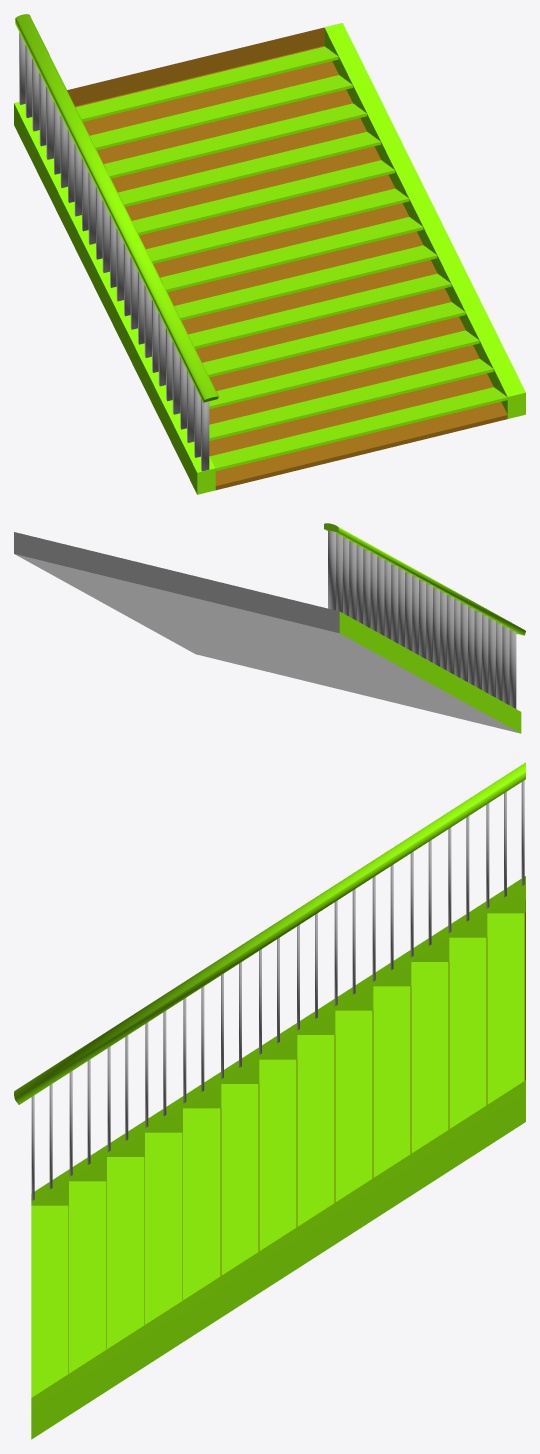
Rendered from obj_block.obj.
3 renders of one model, top to bottom at view 1: azimuth 30°, elevation 25°; view 2: azimuth 150°, elevation 25°; view 3: azimuth 270°, elevation 25°, orthographic. The views are drawn at different scales.
Visible parts, largest first — view 1: tizi_zhide; view 2: tizi_zhide; view 3: tizi_zhide.
Part boxes in pixels (left/top/right/bottom): tizi_zhide: left=14, top=14, right=525, bottom=494; tizi_zhide: left=14, top=523, right=525, bottom=733; tizi_zhide: left=14, top=762, right=525, bottom=1439.
Size of the model in its own units: 1 by 1 by 1.
